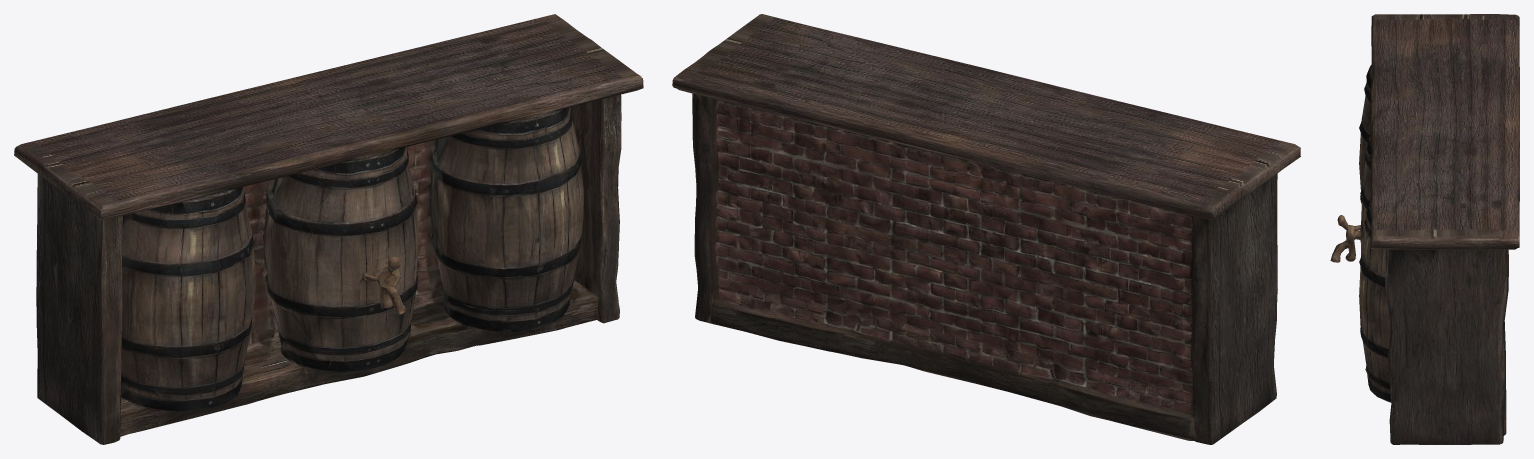
File: tavern-bar-barrels.glb
3 renders of one model, left to right at view 1: azimuth 30°, elevation 25°; view 2: azimuth 150°, elevation 25°; view 3: azimuth 270°, elevation 25°, orthographic. The views are drawn at different scales.
Parts seen in each view (by area): view 1: Mesh_0; view 2: Mesh_0; view 3: Mesh_0.
Boxes of the visible parts, x1,y1,x2,y2 form: Mesh_0: (14,14,643,444); Mesh_0: (672,14,1300,444); Mesh_0: (1330,14,1519,444).
Size of the model in its own units: 1.9 by 0.8373 by 0.6764.
Materials: 1 (1 with a texture image).
